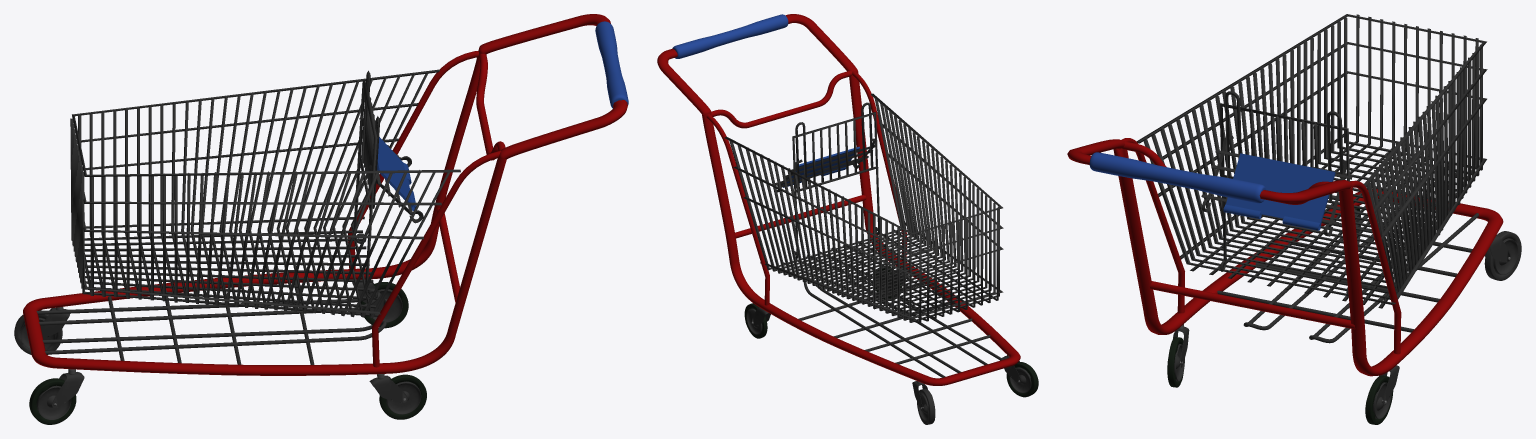
File: shopping cart.fbx
3 views of the same model, side by side, from view 1: azimuth 30°, elevation 25°; view 2: azimuth 150°, elevation 25°; view 3: azimuth 270°, elevation 25° (orthographic). The views are drawn at different scales.
Parts seen in each view (by area): view 1: Line027; view 2: Line027; view 3: Line027.
Boxes of the visible parts, x1=… form: Line027: x1=14, y1=14, x2=628, y2=424; Line027: x1=657, y1=14, x2=1038, y2=424; Line027: x1=1067, y1=14, x2=1521, y2=424.
Size of the model in its own units: 142 by 78.09 by 99.11.
